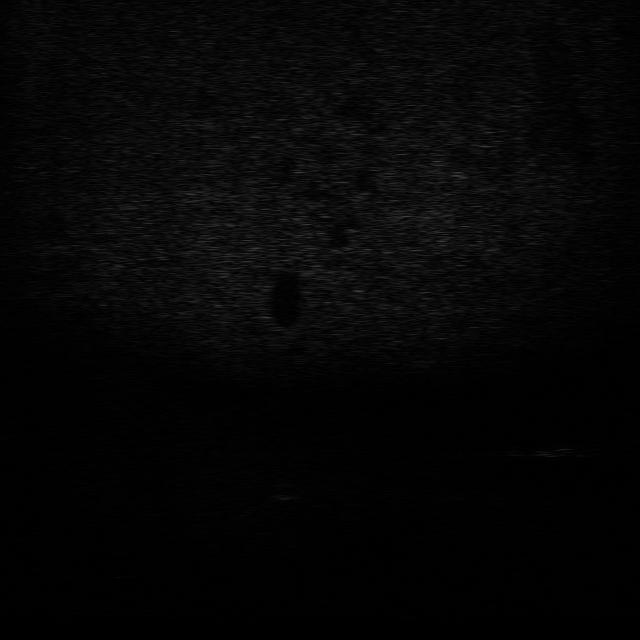ball: (268, 479, 306, 504)
human body: (499, 435, 599, 460)
